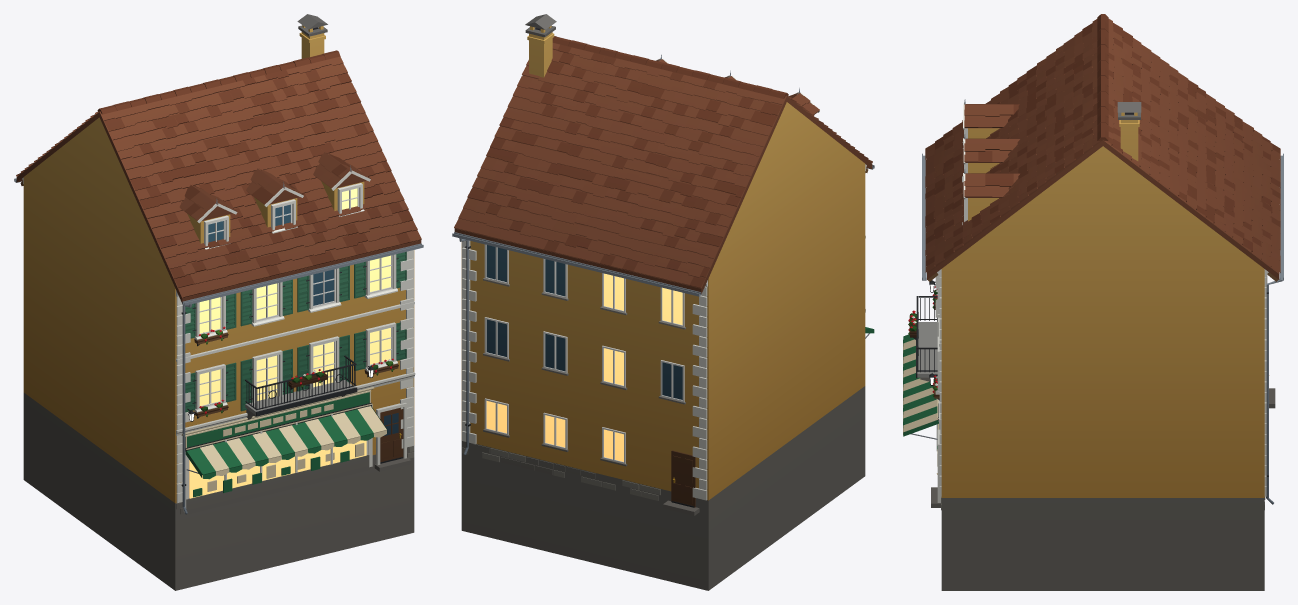
Rendered from TownHouse_C.fbx.
The picture shows the model from 3 angles, left to right: view 1: azimuth 30°, elevation 25°; view 2: azimuth 150°, elevation 25°; view 3: azimuth 270°, elevation 25°; orthographic projection. The views are drawn at different scales.
Parts seen in each view (by area): view 1: TownHouse_C_LOD0; view 2: TownHouse_C_LOD0; view 3: TownHouse_C_LOD0.
Boxes of the visible parts, x1,y1,x2,y2 form: TownHouse_C_LOD0: (14,14,423,590); TownHouse_C_LOD0: (452,14,874,590); TownHouse_C_LOD0: (903,14,1283,590).
Size of what is drawn, in the model's own units: 10 by 18.12 by 12.97.
Materials: 1 (1 with a texture image).
